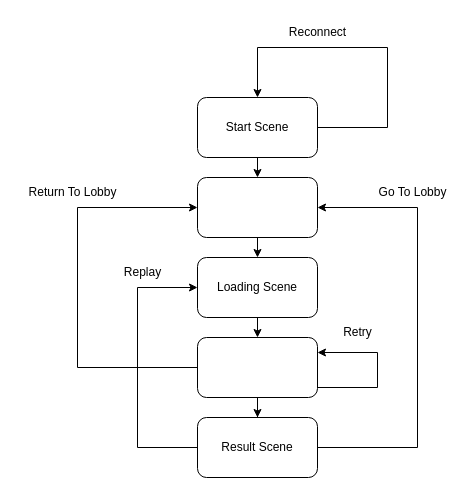
Some shapes in this 474 by 495 pixel diagram are drawn without their labels. Here are the shapes that lost their labels. From the top down, the centre of each, then its label:
the point at 257,207: Lobby Scene
the point at 257,367: Game Scene
